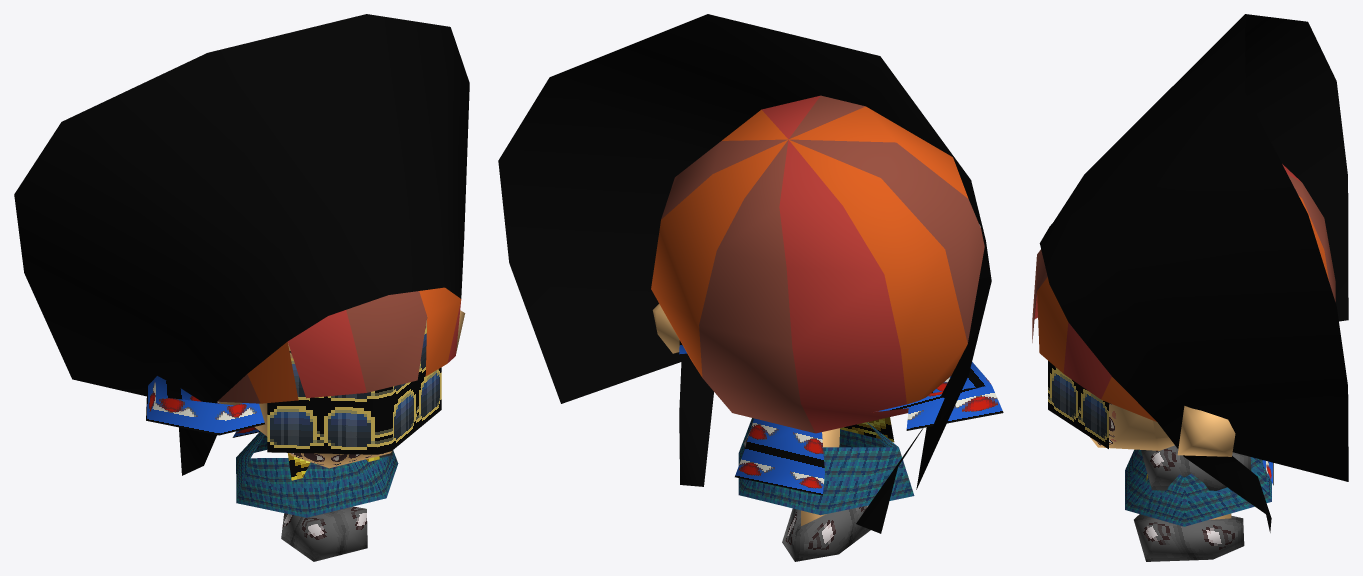
3 views of the same model, side by side, from view 1: azimuth 30°, elevation 25°; view 2: azimuth 150°, elevation 25°; view 3: azimuth 270°, elevation 25° (orthographic). The views are drawn at different scales.
Parts seen in each view (by area): view 1: pmd05_08_01; view 2: pmd05_08_01; view 3: pmd05_08_01.
Part boxes in pixels (x1,y1,x2,y2): pmd05_08_01: (14, 14, 469, 561); pmd05_08_01: (498, 14, 1003, 561); pmd05_08_01: (1032, 14, 1348, 561).
Bounding box in the file's own units: 1.7 × 1.74 × 1.01.
9 materials, 9 textured.
